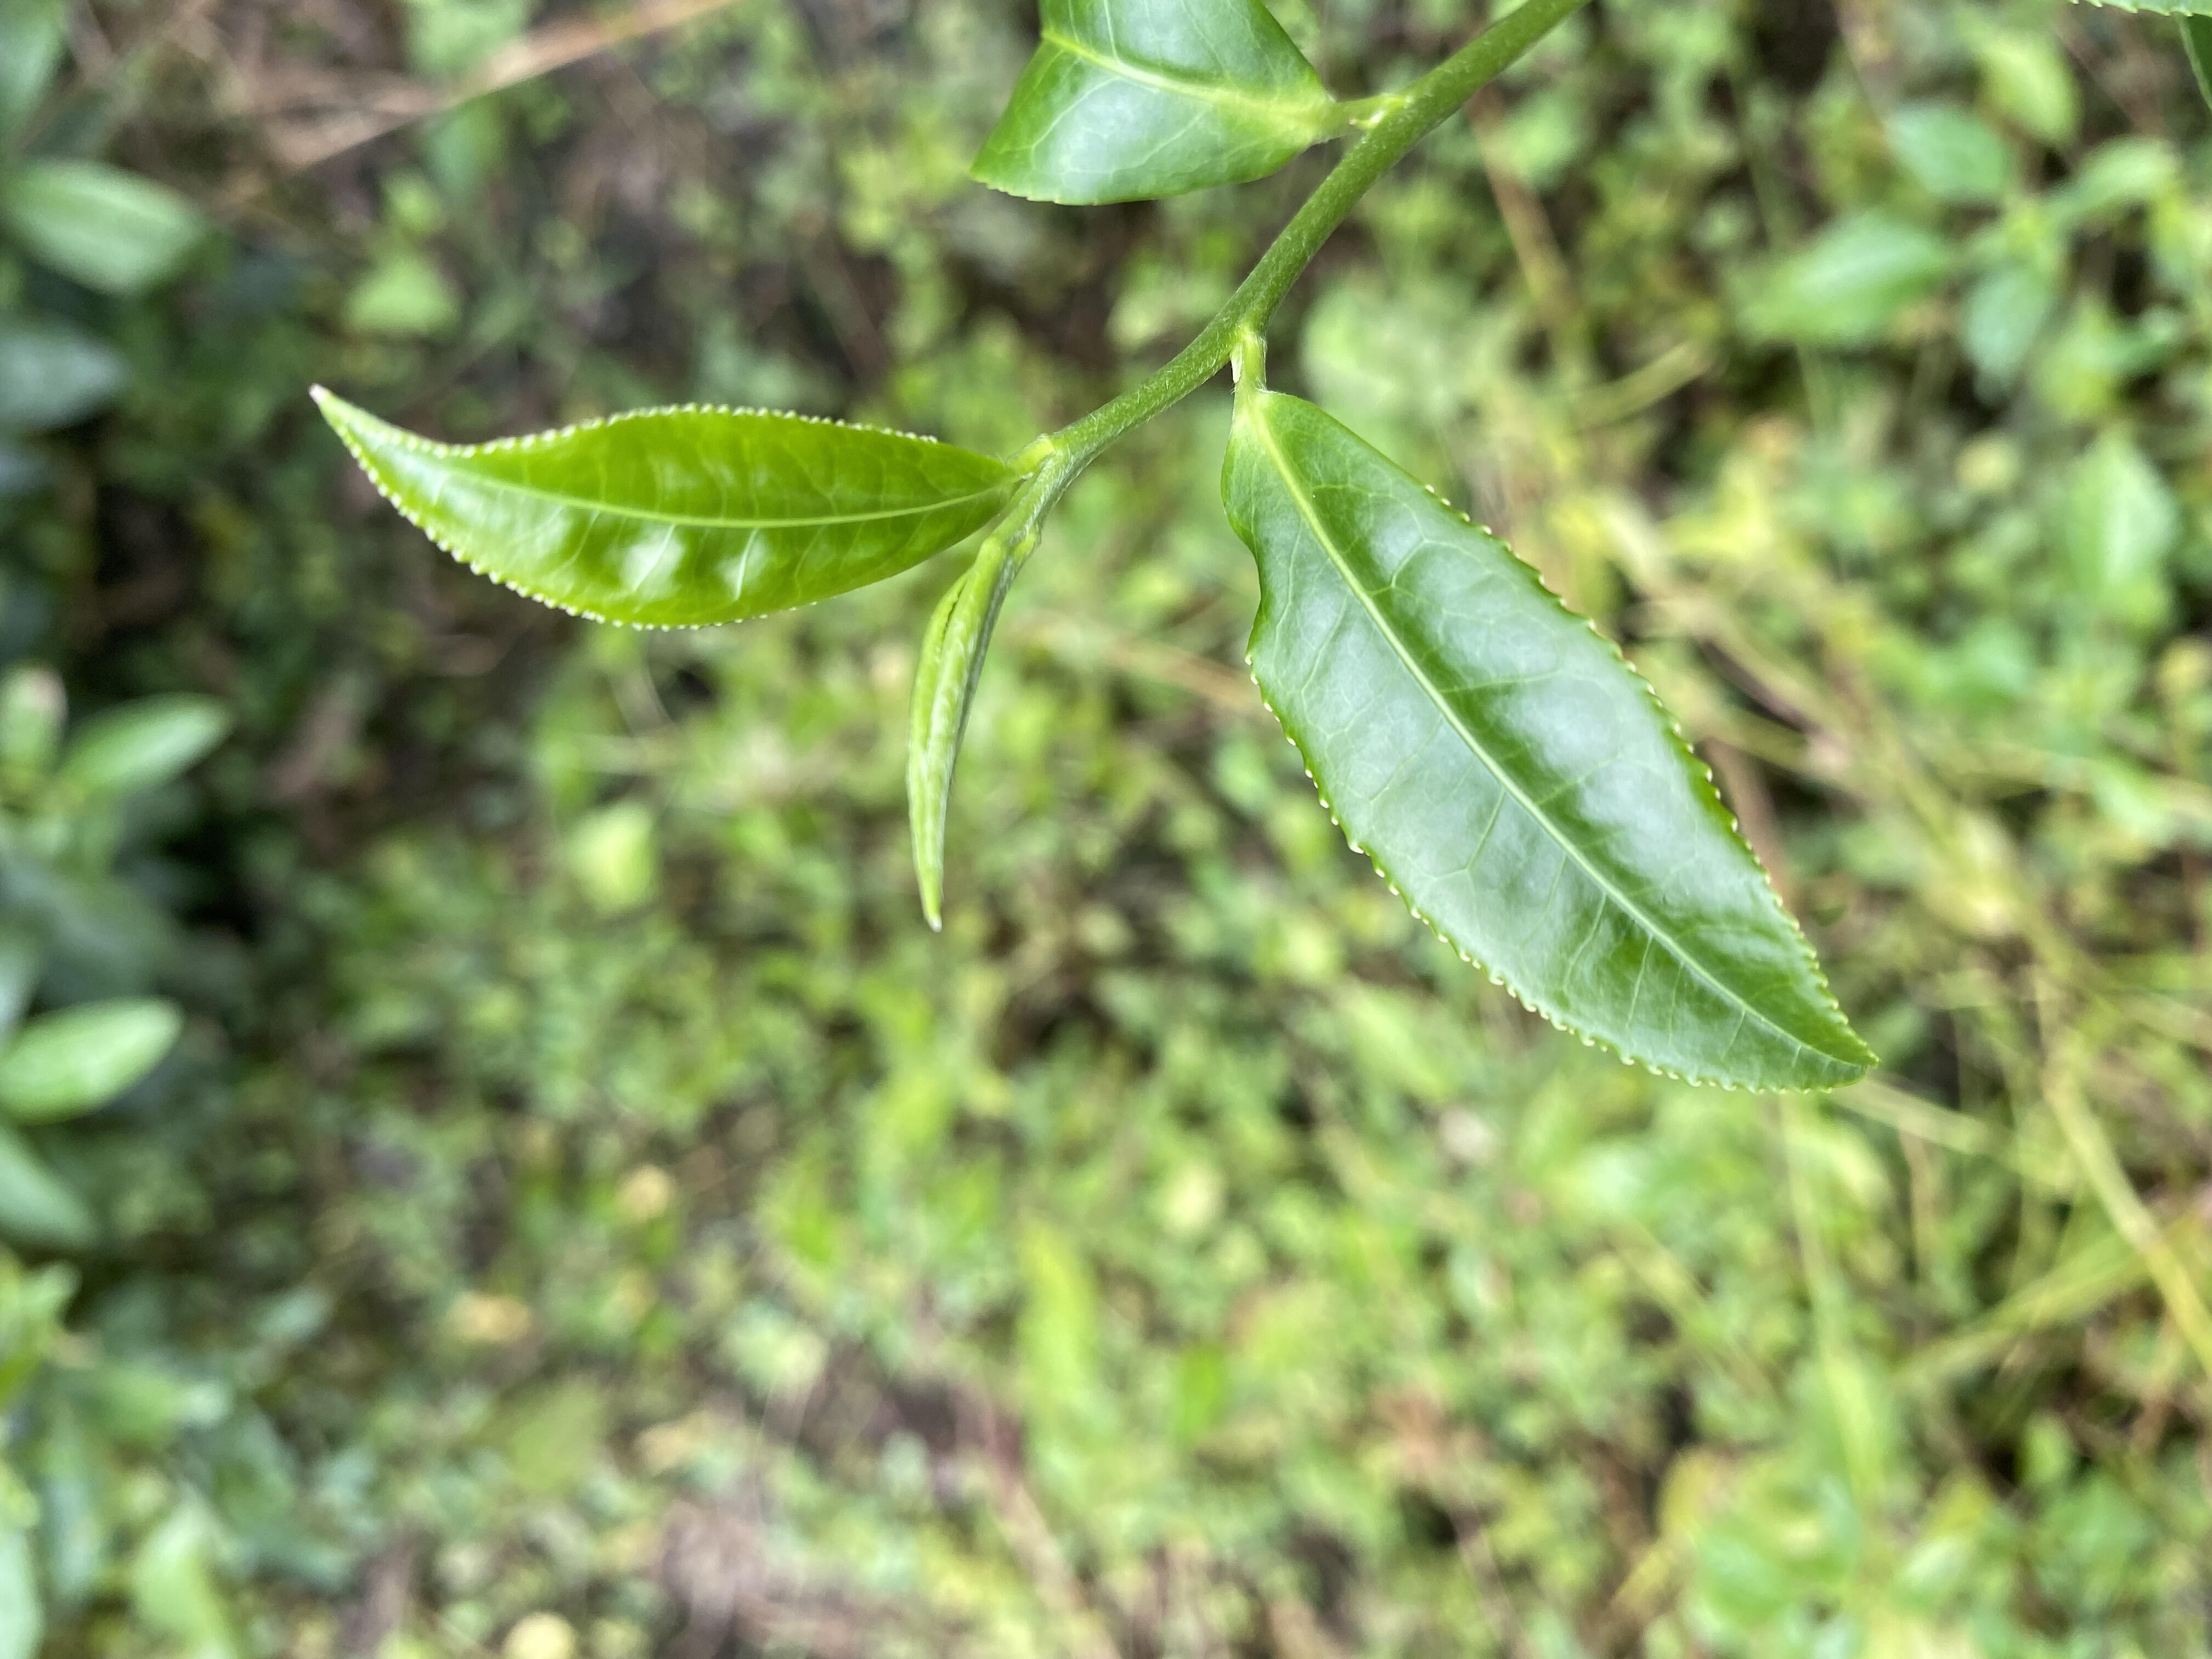healthy: (1216, 390, 1883, 1098), (305, 380, 1026, 634), (960, 2, 1345, 209)
